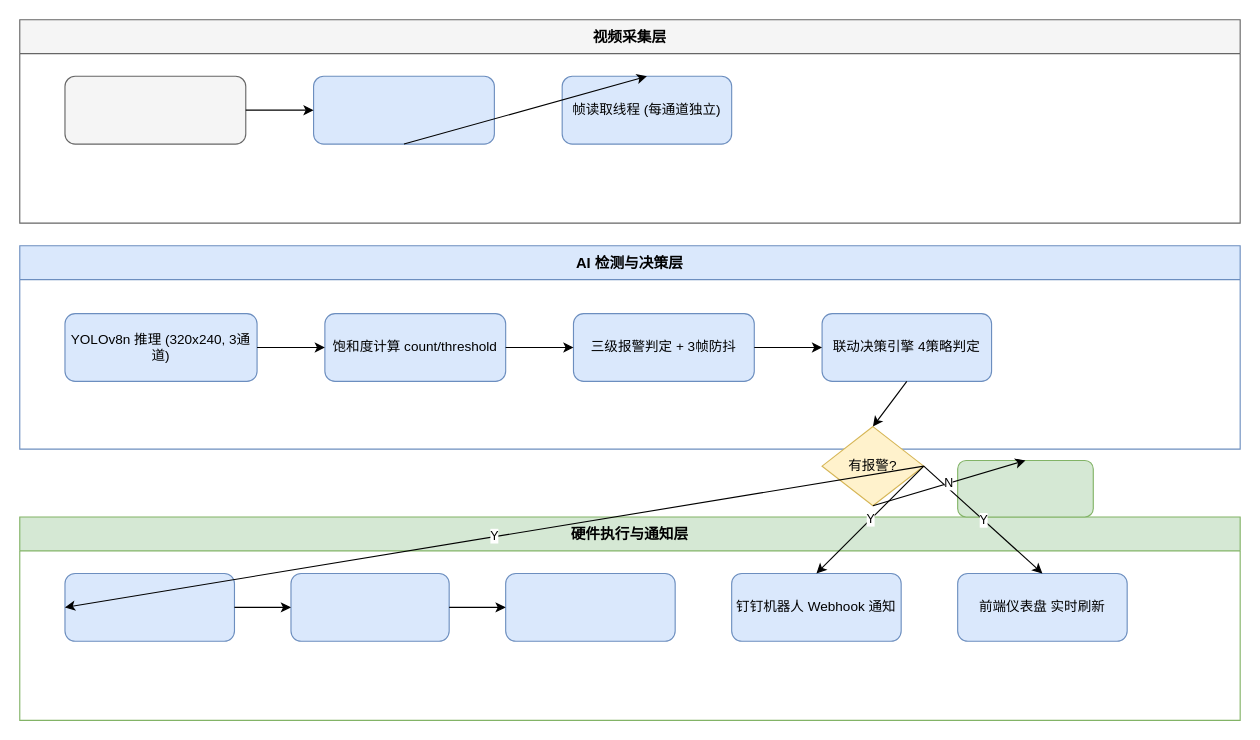
Image size: 1260x740. Some labels were removed from this diagram. The centre of each missing label's shape, as x and y in pixels:
ESP32-CAM MJPEG 推流: point (155, 109)
MP4 本地文件 (3通道模拟): point (403, 109)
MQTT 下发指令 LV:BUZ:SERVO: point (590, 606)
STM32 舵机闸门 PWM 控制: point (149, 606)
正常刷新 前端仪表盘: point (1025, 488)
蜂鸣器+LED 三级状态输出: point (369, 606)
